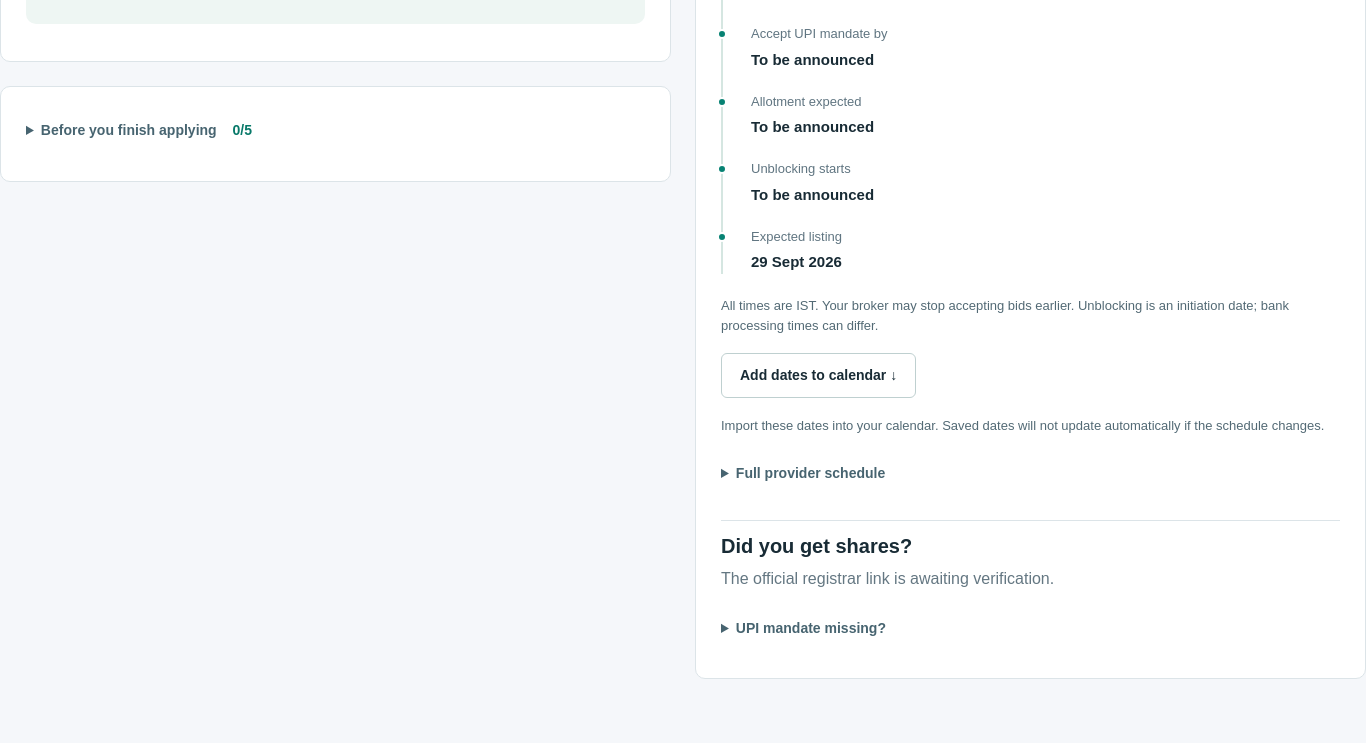
Test: shows full provider research and date-only schedules without claiming editorial verification
(page scrolled)
Step 1. Click the heading "Full provider schedule" → (810, 473), box [736, 465, 885, 481]
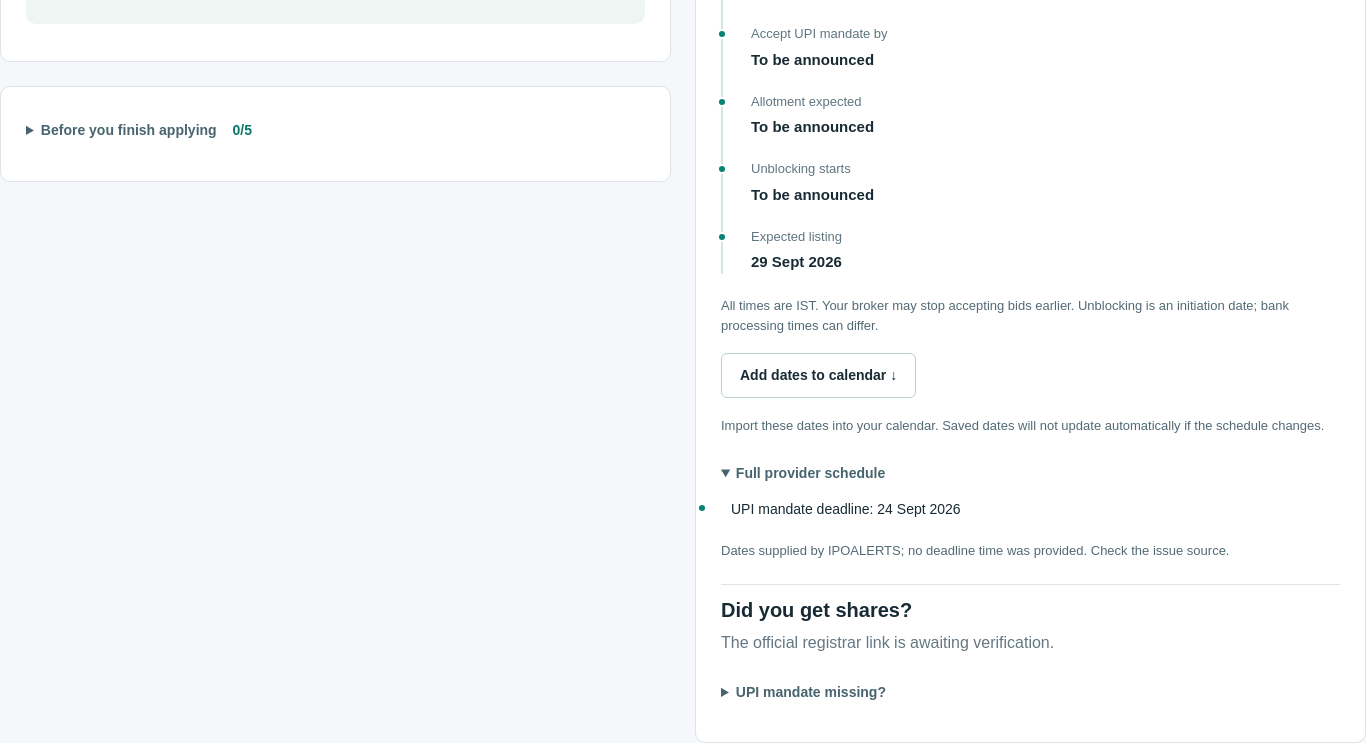
Expected: the list item "UPI mandate deadline: 24 Sept 2026" is shown, [731, 501, 961, 517]
Expected: the text "no deadline time was provided" is shown, [901, 543, 1230, 558]
